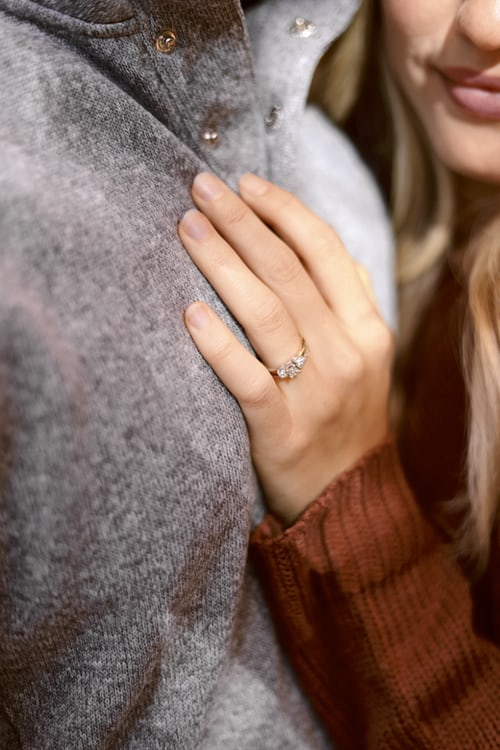ring: (260, 330, 318, 390)
